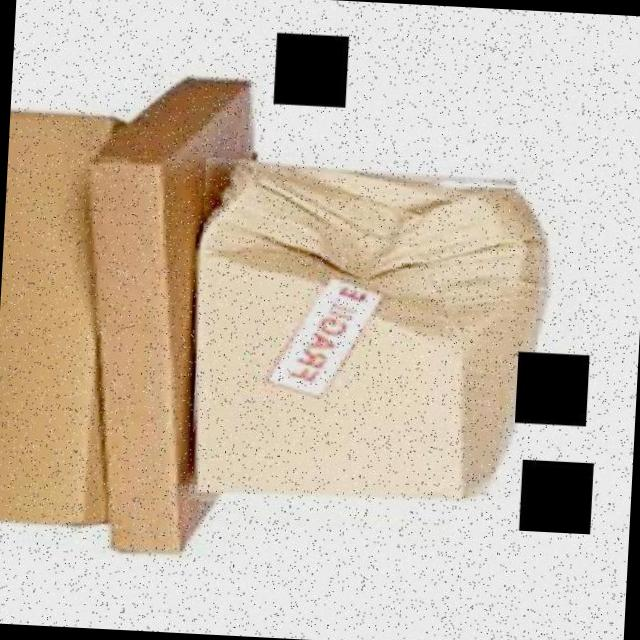box: (188, 157, 562, 518)
